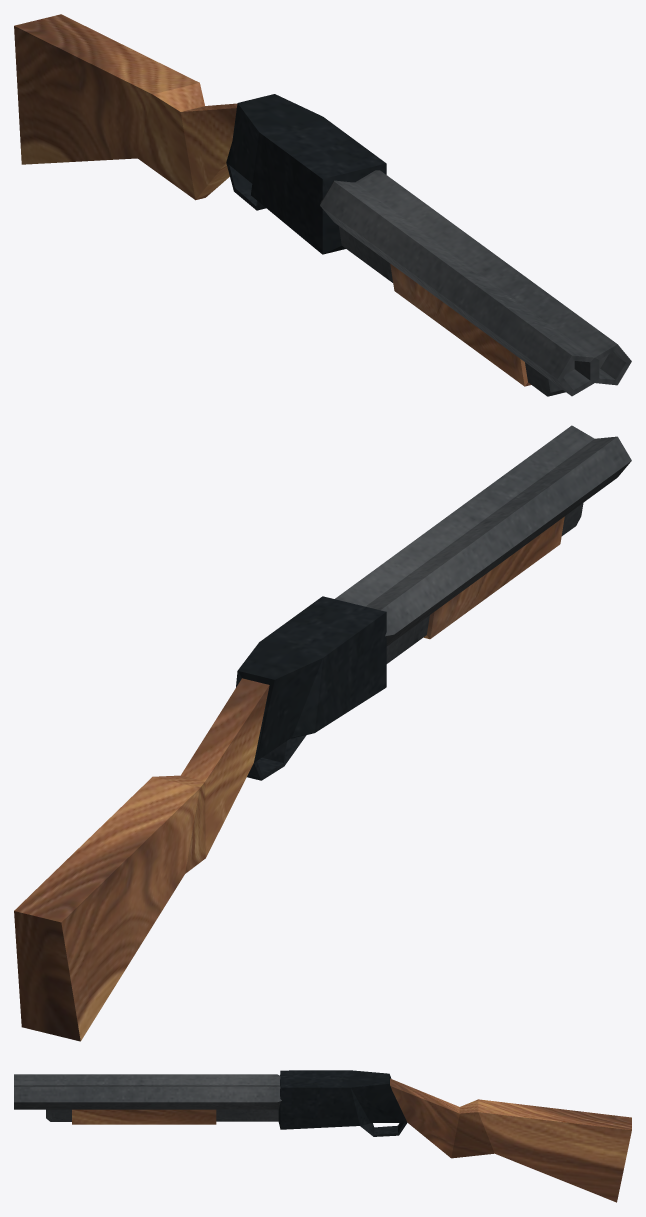
Rendered from EscopetaV0.1.fbx.
3 renders of one model, top to bottom at view 1: azimuth 30°, elevation 25°; view 2: azimuth 150°, elevation 25°; view 3: azimuth 270°, elevation 25°, orthographic. The views are drawn at different scales.
Parts seen in each view (by area): view 1: escopeta.001, cañon; view 2: escopeta.001, cañon; view 3: escopeta.001, cañon.
Part boxes in pixels (x1,y1,x2,y2): escopeta.001: (14,14,565,396); cañon: (320,170,631,396); escopeta.001: (14,503,583,1041); cañon: (335,425,631,646); escopeta.001: (46,1070,631,1202); cañon: (14,1074,281,1109).
Size of the model in its own units: 0.2405 by 0.6466 by 3.12.
Materials: 2 (2 with a texture image).
